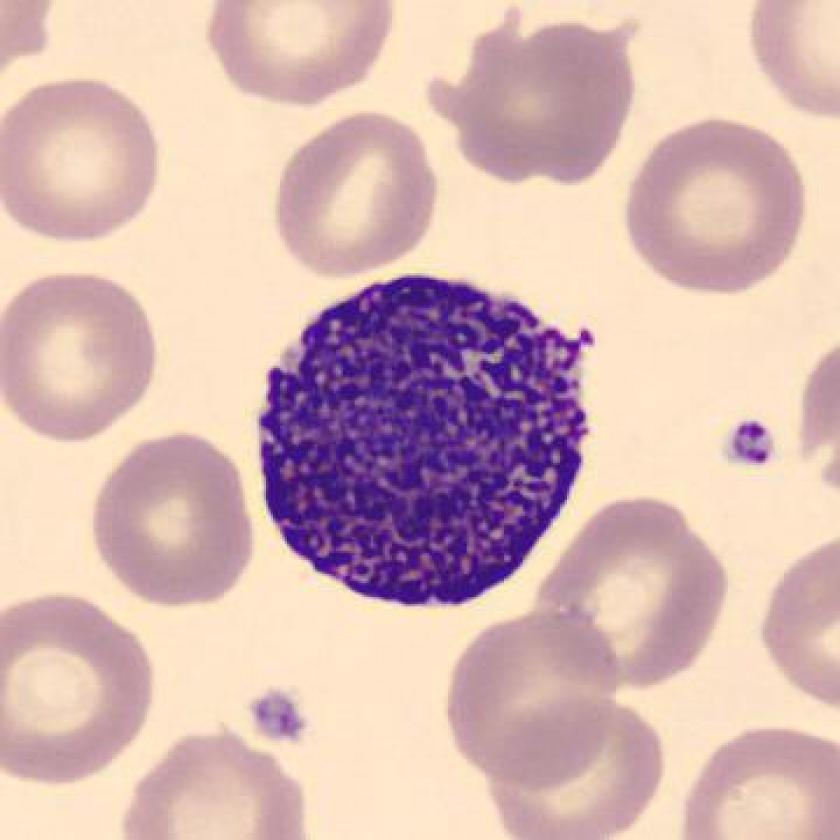basophil: (242, 265, 606, 616)
